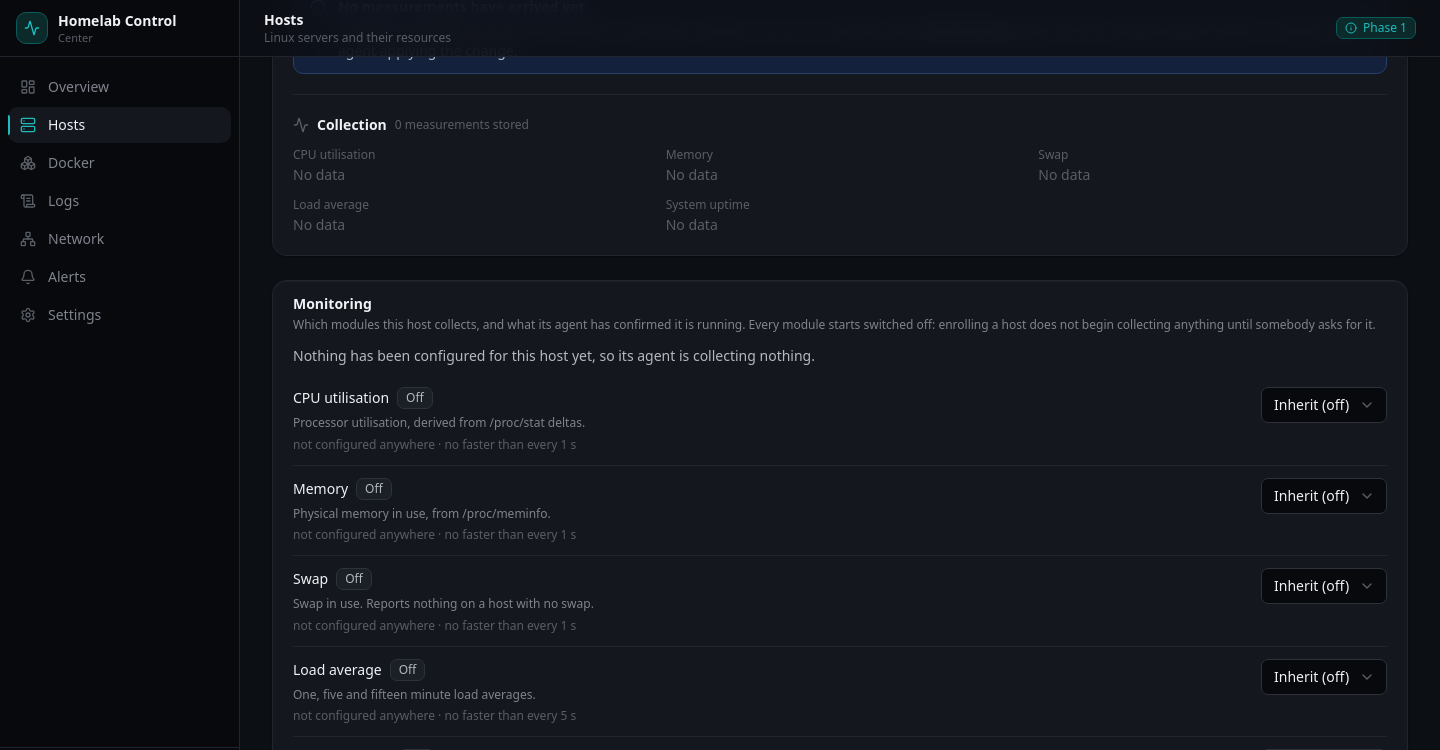
Test case: every control saves, and a refusal is shown › reflects the new state after a save
(page scrolled)
Expected: the heading "Monitoring" is shown, [293,294,372,312]
Select "On" in the 1st dropdown named "CPU utilisation collection". click: (1324, 405)
box: [1261,387,1387,423]
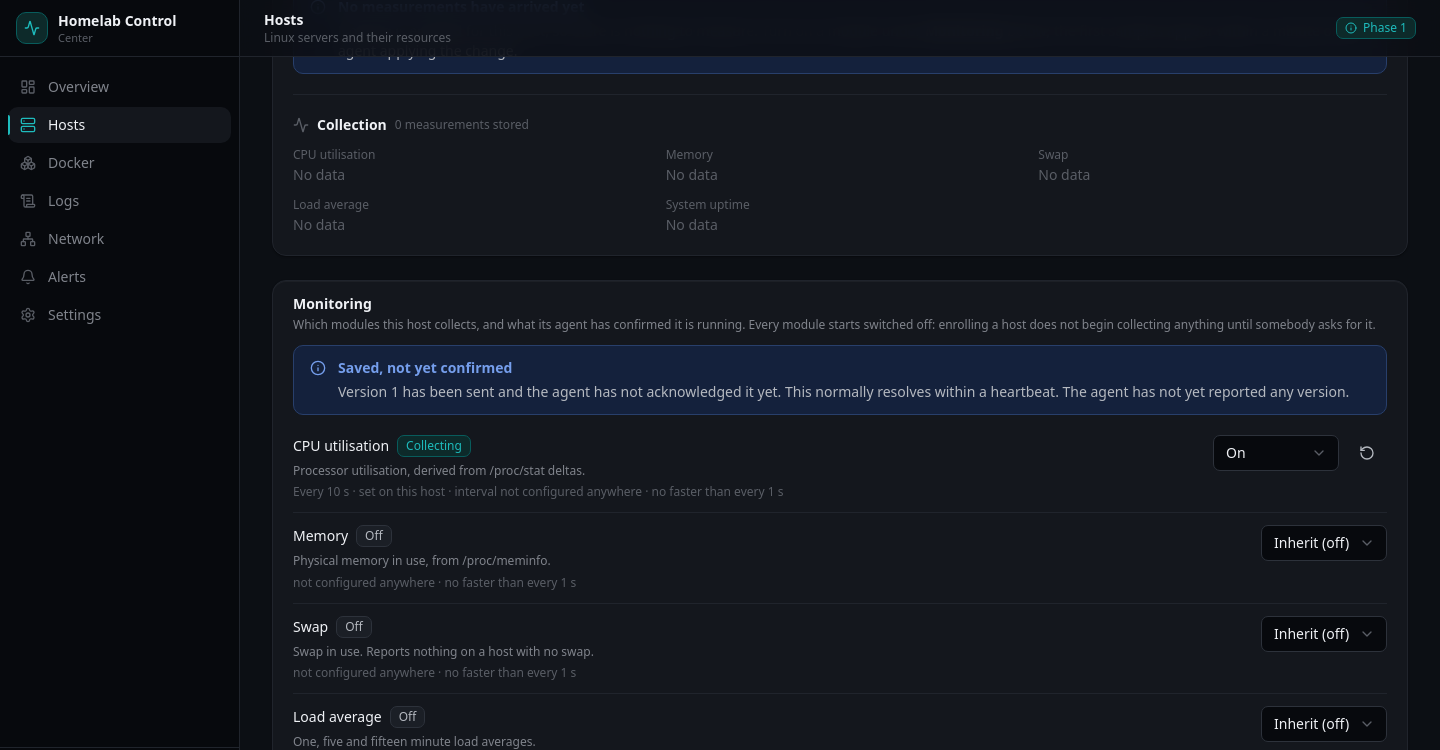
Expected: the text "Collecting" is shown, [397,434,471,456]
